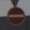No entry: (6, 5, 25, 24)
